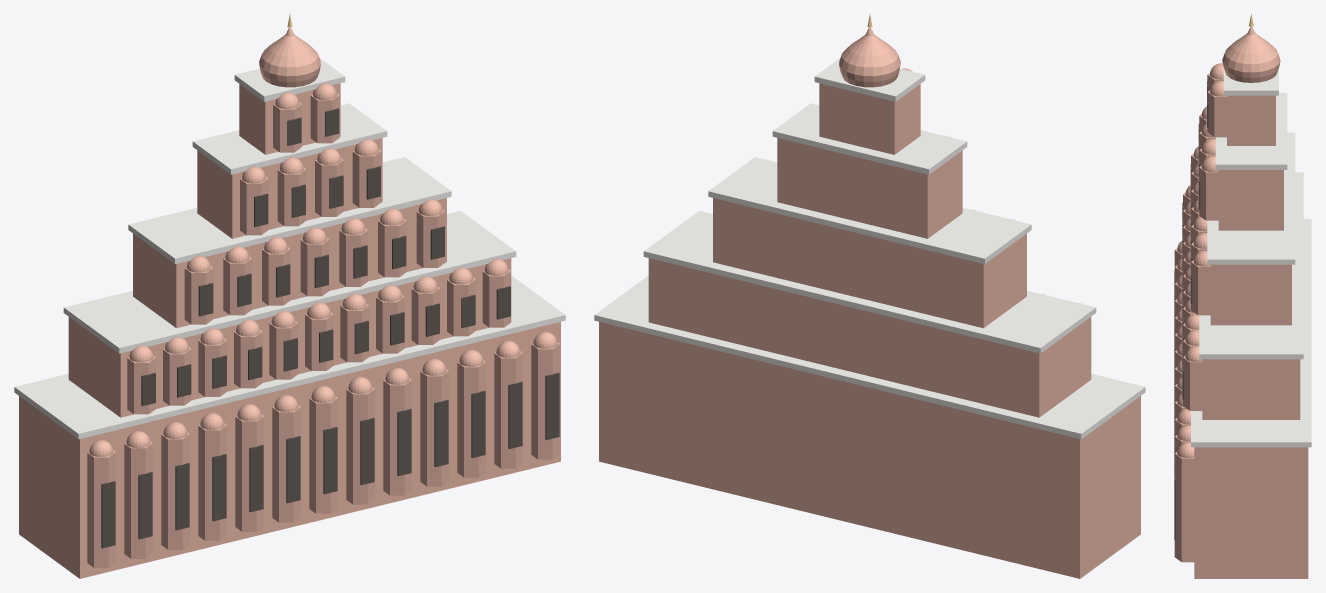
Rendered from wind_palace.glb.
3 views of the same model, side by side, from view 1: azimuth 30°, elevation 25°; view 2: azimuth 150°, elevation 25°; view 3: azimuth 270°, elevation 25° (orthographic). The views are drawn at different scales.
Parts seen in each view (by area): view 1: Cube, Cube.001, Cube.015, Cube.016, Cube.028, Cube.029, Cube.037, Cube.038, dome.037, Cube.043, Cone, Cone.001 (+49 smaller); view 2: Cube, Cube.015, Cube.028, Cube.037, Cube.001, Cube.016, Cube.029, Cube.043, Cube.038, dome.037, Cube.044; view 3: Cube, Cube.015, Cube.001, Cube.016, Cube.028, Cube.029, Cube.037, Cube.043, Cube.038, dome.037, Cone.012, Cone.030 (+14 smaller).
Part boxes in pixels (box(x1,y1,x2,y2)): Cube: box(19, 322, 560, 578); Cube.001: box(14, 275, 565, 439); Cube.015: box(68, 258, 511, 417); Cube.016: box(63, 210, 516, 353); Cube.028: box(133, 198, 446, 328); Cube.029: box(128, 157, 451, 264); Cube.037: box(197, 138, 382, 238); Cube.038: box(192, 103, 387, 174); dome.037: box(259, 27, 320, 87); Cube.043: box(239, 83, 340, 154); Cone: box(87, 450, 116, 567); Cone.001: box(124, 441, 153, 558); Cube: box(599, 322, 1140, 578); Cube.015: box(648, 258, 1091, 417); Cube.028: box(713, 198, 1026, 328); Cube.037: box(777, 138, 962, 238); Cube.001: box(594, 275, 1145, 439); Cube.016: box(643, 210, 1096, 353); Cube.029: box(708, 157, 1031, 264); Cube.043: box(819, 83, 920, 154); Cube.038: box(772, 103, 967, 174); dome.037: box(839, 27, 900, 87); Cube.044: box(814, 58, 925, 101); Cube: box(1194, 447, 1308, 578); Cube.015: box(1202, 359, 1300, 419); Cube.001: box(1191, 219, 1311, 447); Cube.016: box(1199, 172, 1303, 359); Cube.028: box(1210, 264, 1291, 325); Cube.029: box(1207, 132, 1295, 264); Cube.037: box(1218, 170, 1283, 230); Cube.043: box(1227, 95, 1275, 145); Cube.038: box(1215, 93, 1287, 169); dome.037: box(1222, 27, 1280, 82); Cone.012: box(1174, 452, 1194, 562); Cone.030: box(1191, 260, 1210, 315).
Bounding box in the file's own units: 32.4 × 30.77 × 8.43.
